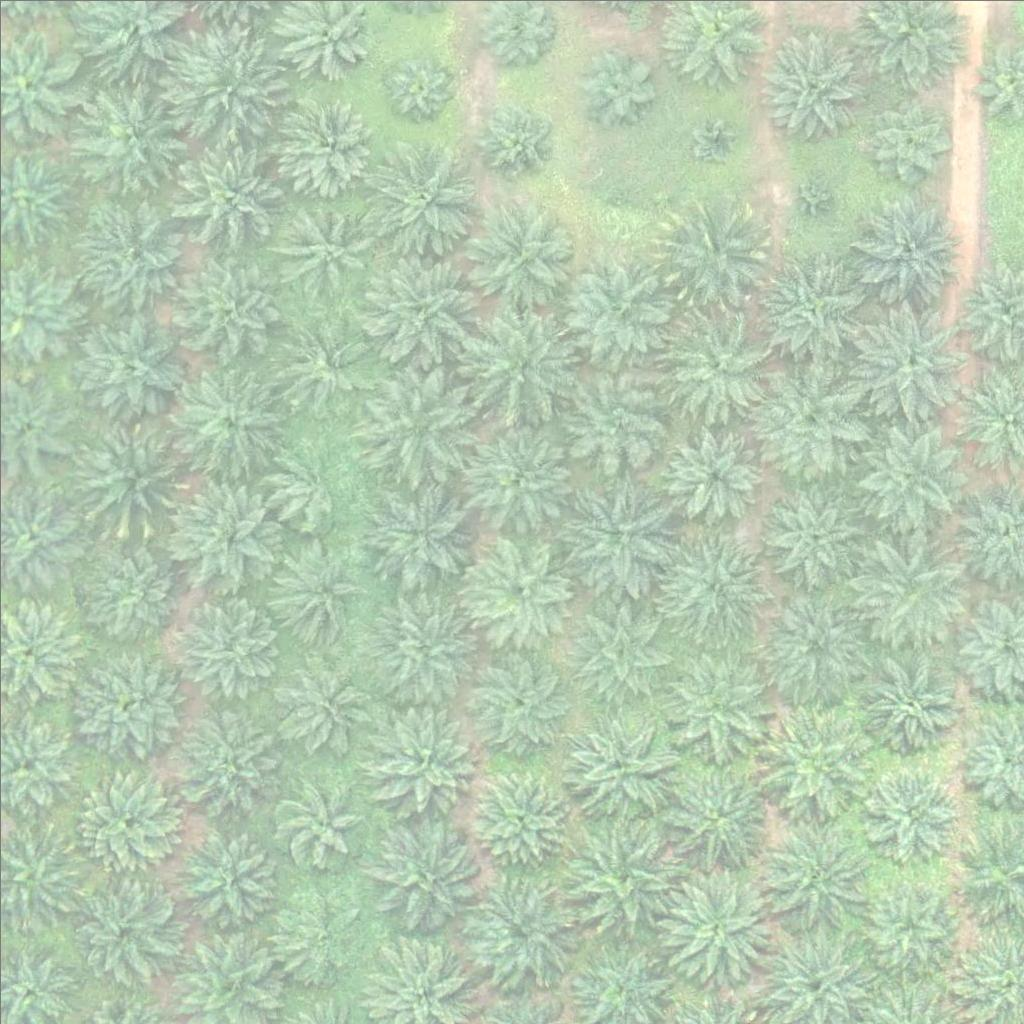Kelapa_Sawit: (756, 821, 869, 935), (658, 645, 771, 759), (366, 150, 479, 264), (463, 419, 576, 533), (466, 309, 579, 423), (565, 590, 678, 704), (563, 480, 676, 594), (655, 525, 768, 639), (661, 868, 774, 981), (659, 759, 772, 872), (370, 821, 483, 934), (366, 699, 479, 812), (168, 591, 281, 704), (71, 311, 184, 424), (75, 201, 188, 314), (166, 477, 279, 590), (175, 364, 288, 477), (169, 247, 282, 360), (461, 200, 574, 313), (559, 360, 672, 473), (851, 416, 964, 529), (851, 303, 964, 416), (848, 188, 961, 301), (167, 29, 280, 142), (70, 81, 183, 194), (756, 696, 868, 810), (170, 135, 282, 249), (363, 369, 475, 483), (361, 252, 473, 366), (658, 199, 770, 312), (760, 588, 872, 701), (570, 819, 682, 932), (562, 705, 674, 818), (467, 872, 579, 985), (463, 648, 575, 761), (364, 591, 476, 704), (168, 820, 280, 933), (64, 871, 176, 984), (65, 647, 177, 760), (74, 531, 186, 644), (75, 416, 187, 529), (365, 476, 477, 589), (465, 533, 577, 646), (555, 253, 667, 366), (660, 309, 772, 422), (760, 363, 872, 476), (756, 256, 868, 369), (857, 534, 969, 647), (756, 25, 868, 138), (855, 648, 955, 749), (470, 769, 570, 870), (172, 708, 272, 809), (74, 772, 174, 873), (267, 542, 367, 643), (663, 424, 763, 525), (761, 483, 861, 584), (279, 91, 379, 192), (860, 762, 960, 862), (275, 316, 375, 416), (271, 197, 371, 297), (866, 877, 954, 965), (270, 438, 358, 526), (272, 892, 359, 980), (277, 778, 364, 866), (276, 662, 363, 750), (862, 92, 949, 180), (571, 42, 658, 130), (472, 92, 559, 180), (382, 49, 457, 124), (784, 171, 834, 222), (690, 115, 740, 166), (593, 179, 643, 229)
